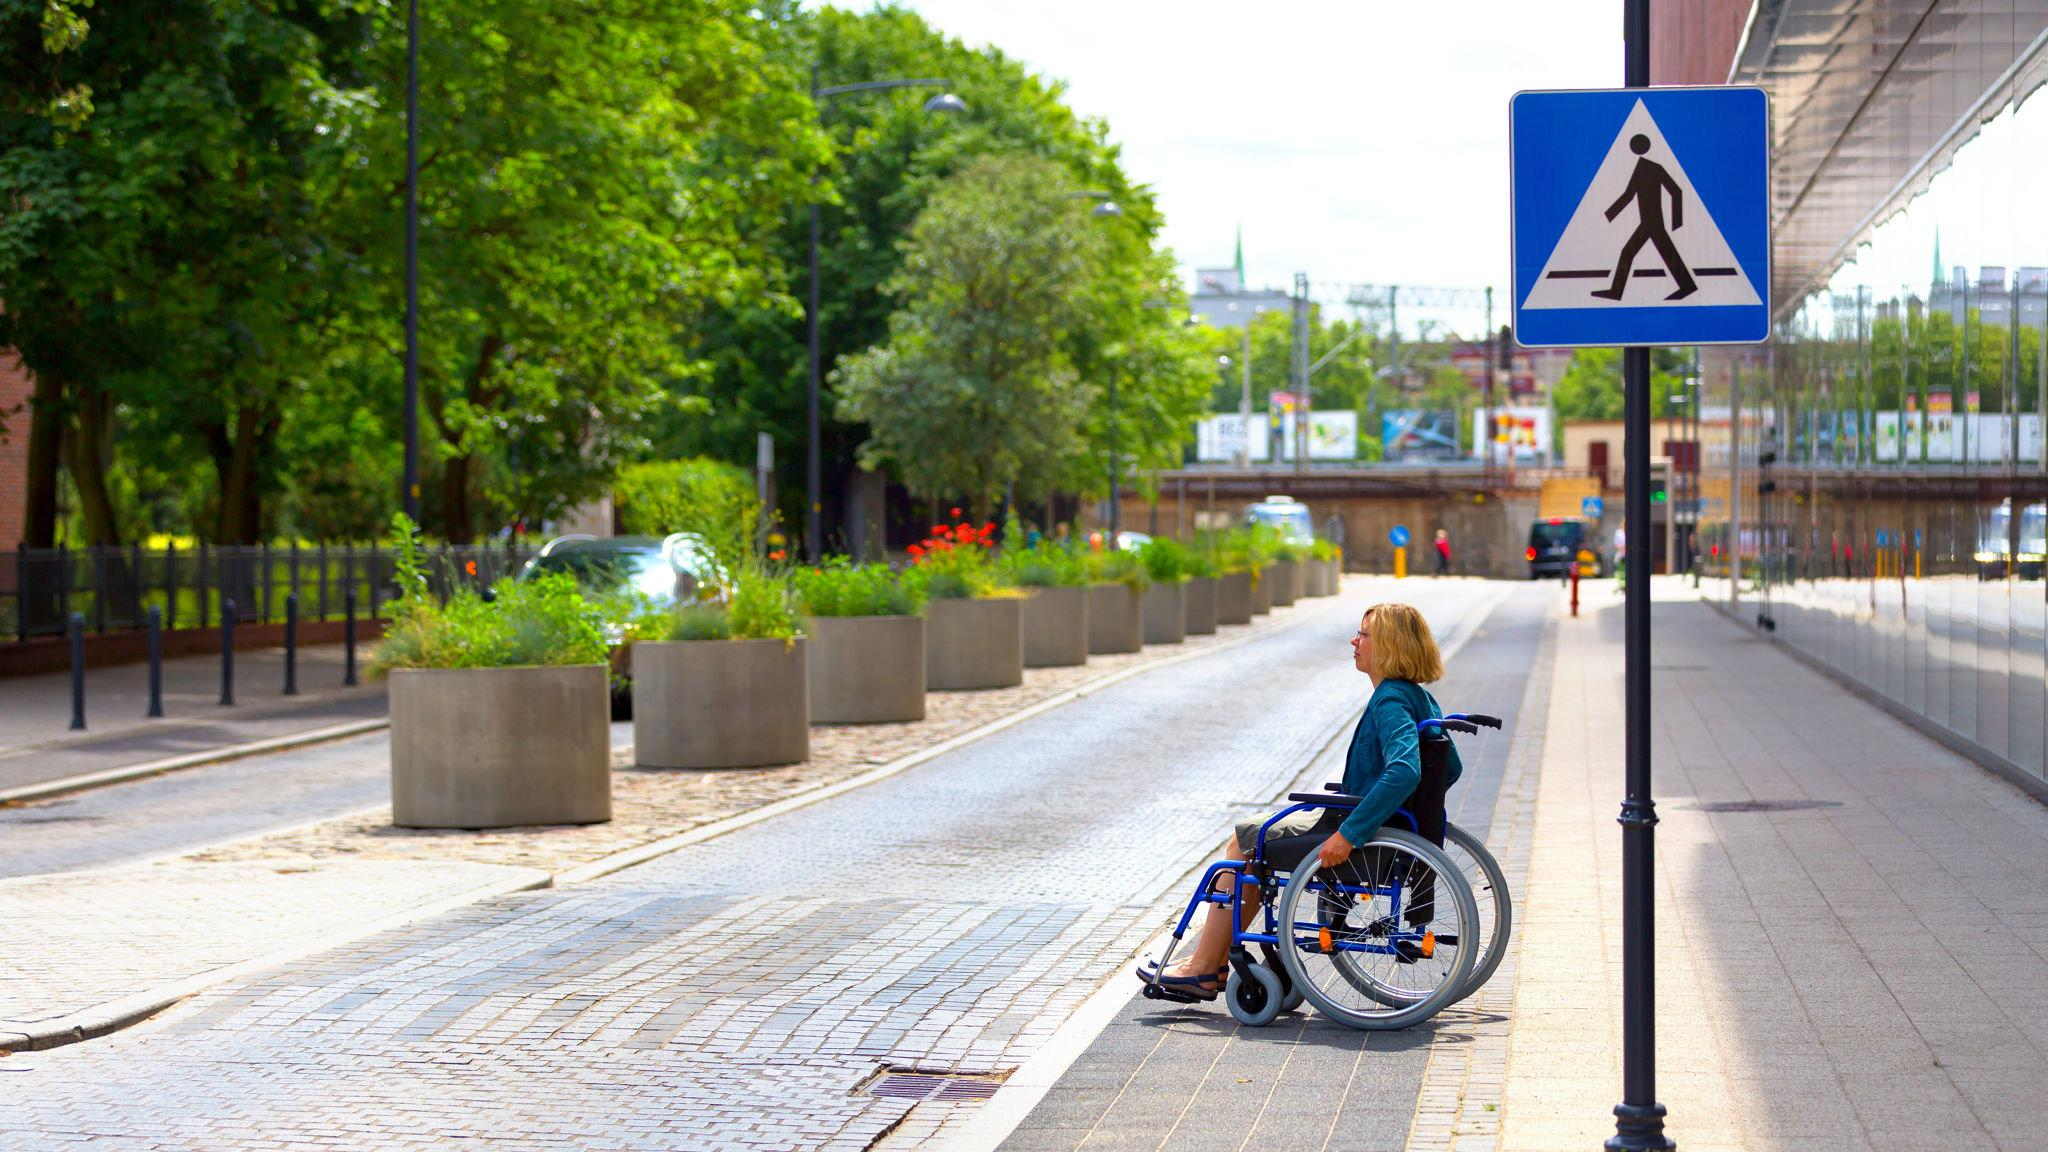wheelchair: (1134, 602, 1512, 1032)
